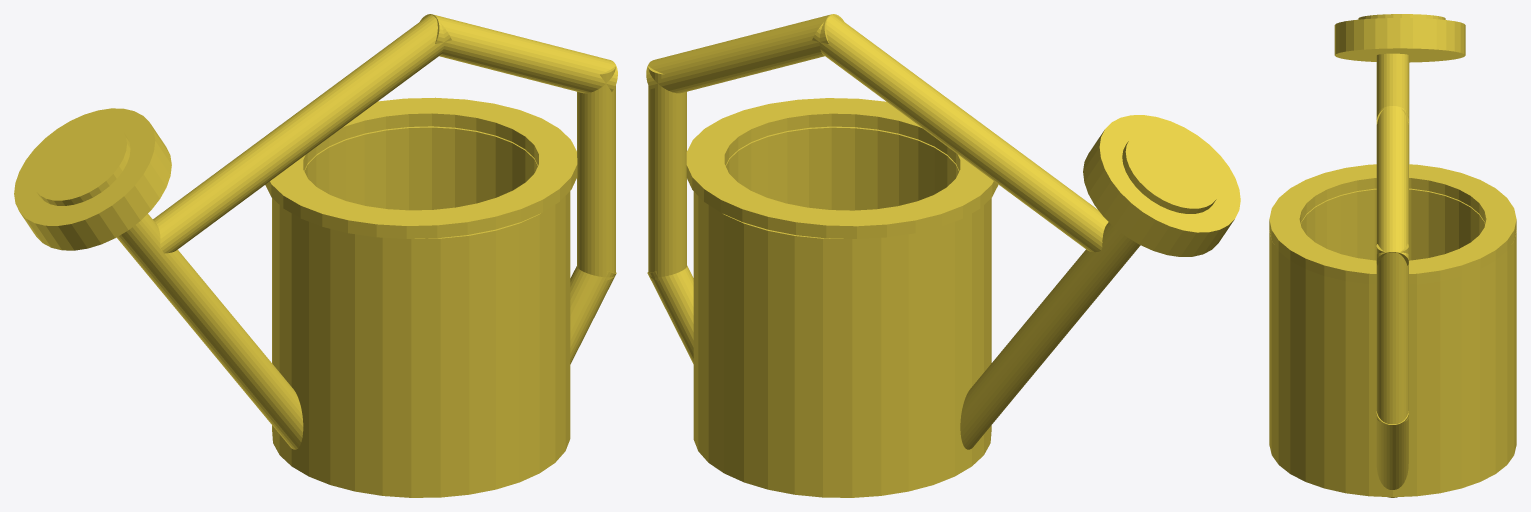
Rendered from wateringcan.fbx.
3 views of the same model, side by side, from view 1: azimuth 30°, elevation 25°; view 2: azimuth 150°, elevation 25°; view 3: azimuth 270°, elevation 25° (orthographic). The views are drawn at different scales.
Visible parts, largest first — view 1: Cylinder.066, Cylinder.068, Cylinder.073, Cylinder.069, Cylinder.067, Cylinder.070, Cylinder.072, Cylinder.074, Cylinder.071; view 2: Cylinder.066, Cylinder.068, Cylinder.073, Cylinder.069, Cylinder.067, Cylinder.070, Cylinder.072, Cylinder.074, Cylinder.071; view 3: Cylinder.066, Cylinder.068, Cylinder.070, Cylinder.069, Cylinder.072, Cylinder.071, Cylinder.067, Cylinder.074.
Part boxes in pixels (bbox=[...]): Cylinder.066: bbox=[272, 126, 570, 497]; Cylinder.068: bbox=[265, 97, 577, 238]; Cylinder.073: bbox=[153, 15, 451, 253]; Cylinder.069: bbox=[14, 108, 171, 250]; Cylinder.067: bbox=[116, 214, 303, 449]; Cylinder.070: bbox=[577, 66, 615, 280]; Cylinder.072: bbox=[420, 14, 617, 93]; Cylinder.074: bbox=[32, 122, 130, 205]; Cylinder.071: bbox=[570, 266, 616, 364]; Cylinder.066: bbox=[693, 126, 991, 497]; Cylinder.068: bbox=[686, 98, 998, 238]; Cylinder.073: bbox=[812, 15, 1108, 252]; Cylinder.069: bbox=[1083, 115, 1240, 256]; Cylinder.067: bbox=[960, 222, 1140, 449]; Cylinder.070: bbox=[648, 66, 686, 280]; Cylinder.072: bbox=[646, 14, 844, 93]; Cylinder.074: bbox=[1122, 130, 1220, 213]; Cylinder.071: bbox=[647, 265, 693, 363]; Cylinder.066: bbox=[1269, 188, 1516, 497]; Cylinder.068: bbox=[1269, 164, 1516, 284]; Cylinder.070: bbox=[1376, 244, 1408, 424]; Cylinder.069: bbox=[1334, 18, 1465, 62]; Cylinder.072: bbox=[1376, 106, 1408, 265]; Cylinder.071: bbox=[1376, 411, 1408, 497]; Cylinder.067: bbox=[1376, 53, 1409, 163]; Cylinder.074: bbox=[1358, 14, 1445, 19].
Bounding box in the file's own units: 852 × 588 × 378.
